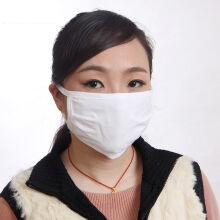face_mask: (63, 38, 151, 150)
